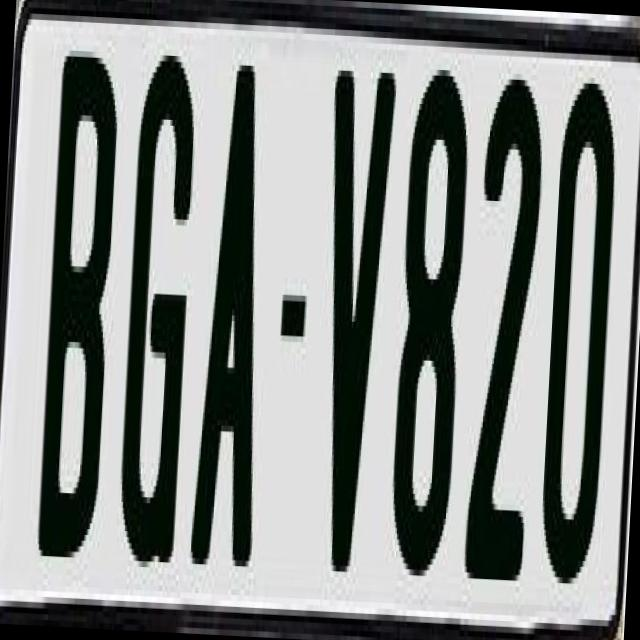0: (534, 65, 620, 579)
2: (462, 79, 550, 593)
8: (386, 51, 472, 588)
A: (191, 58, 284, 562)
B: (37, 49, 124, 554)
G: (116, 36, 207, 558)
V: (308, 52, 400, 568)
